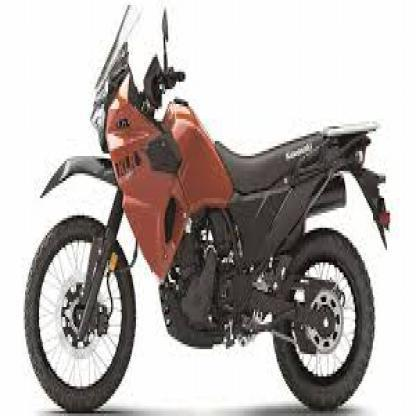Motorcycle: (22, 3, 393, 410)
